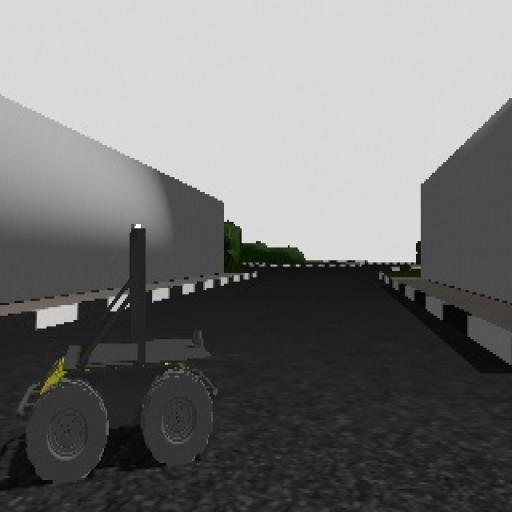huskya200: (17, 194, 234, 504)
